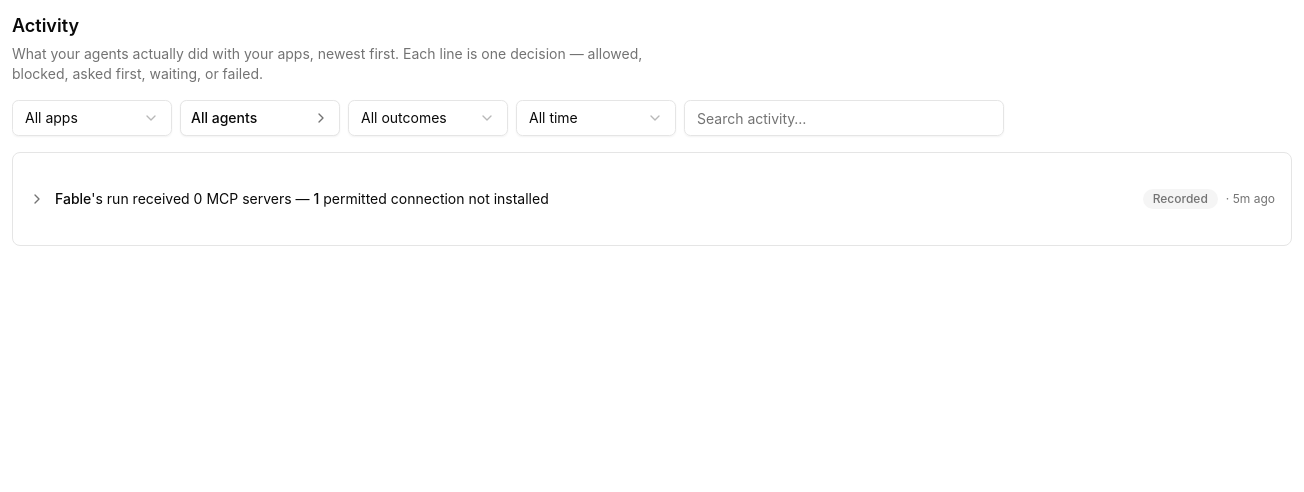
AuditTab › explains when permitted MCP connections were not installed for a run
The image size is (1304, 492).
Click the button that starts with "Fable".
click(73, 198)  # box x1=13 y1=177 x2=1291 y2=221
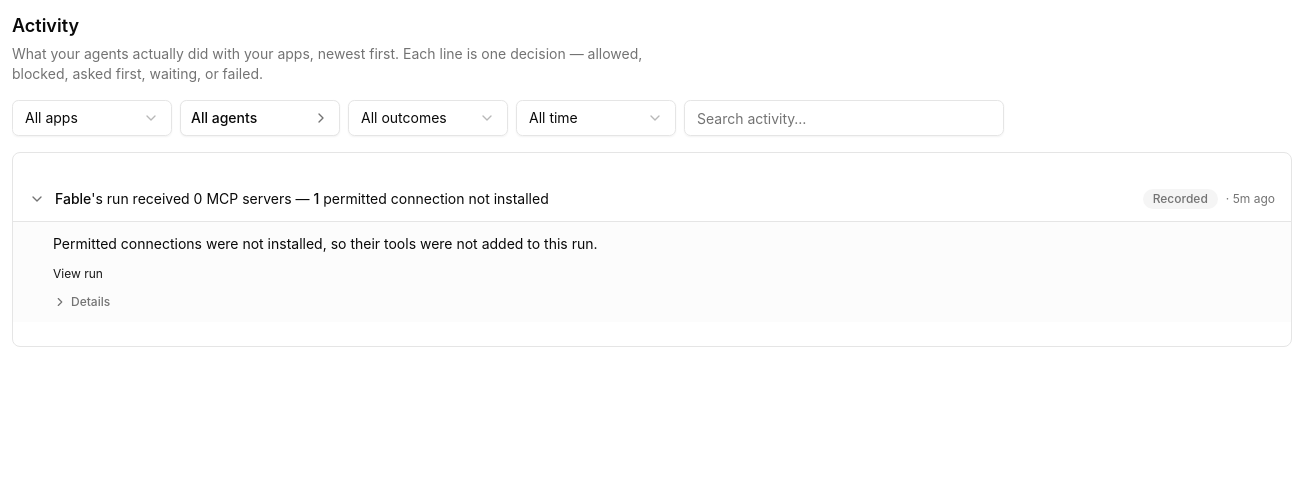
Result: the text "Permitted connections were not installed" is shown at x1=53 y1=235 x2=598 y2=252
Result: the button "Details" is shown
Click the button "Details".
click(82, 302)  # box x1=53 y1=294 x2=110 y2=310
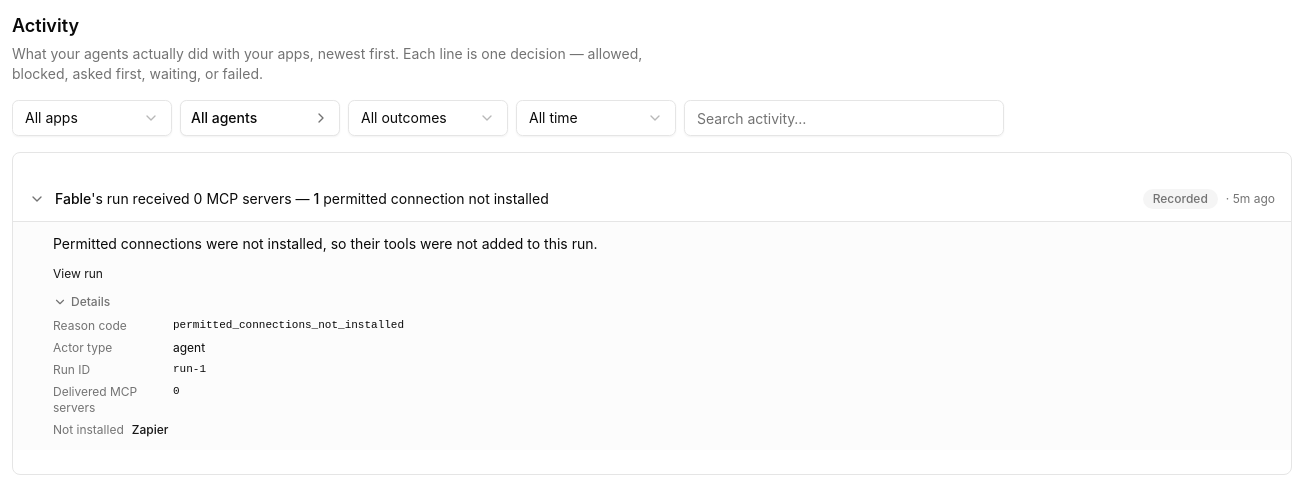
Result: the link to "/apps/conn-zapier/permissions" is shown at x1=132 y1=422 x2=168 y2=438
